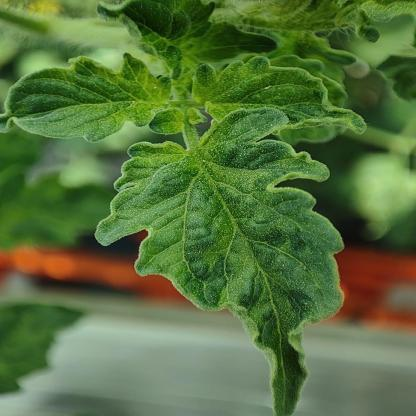T_L_R: (96, 109, 343, 416), (2, 55, 171, 142), (193, 57, 366, 133)
